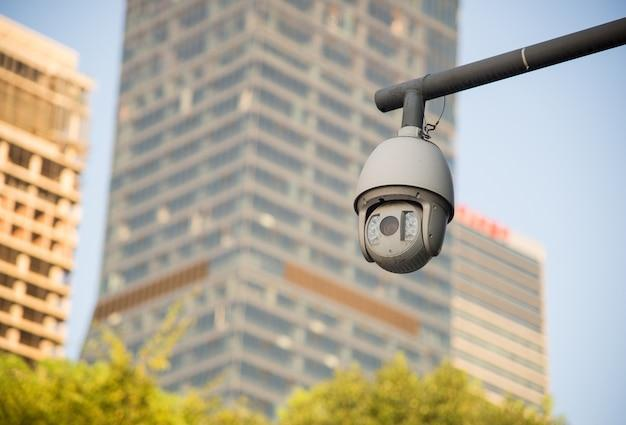camera: (331, 91, 488, 312)
